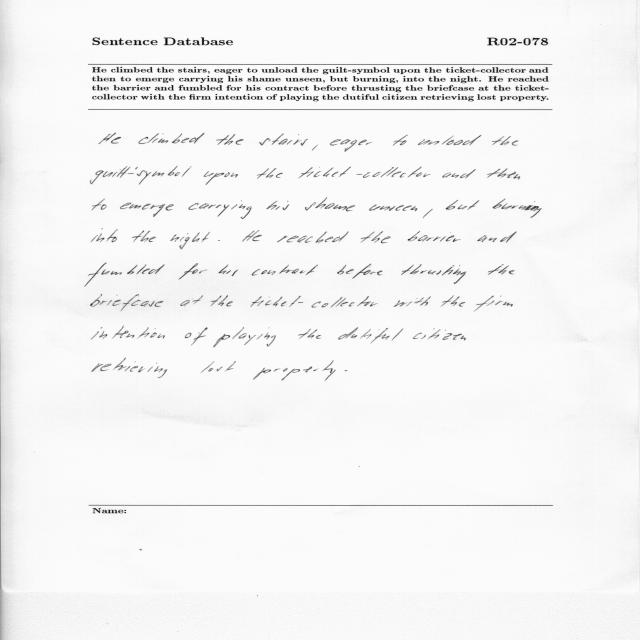word: (91, 166, 192, 185), (85, 263, 165, 286), (253, 360, 336, 381), (298, 167, 431, 179), (250, 296, 378, 308), (92, 358, 167, 378), (401, 264, 466, 284), (213, 327, 276, 347), (91, 295, 164, 312), (188, 200, 252, 219), (338, 327, 403, 344), (91, 326, 165, 339), (492, 199, 542, 218), (277, 231, 349, 243), (120, 202, 174, 217), (139, 133, 205, 144), (252, 265, 318, 276), (337, 264, 383, 279), (413, 328, 466, 341), (170, 232, 210, 249), (305, 198, 355, 211), (418, 135, 482, 145), (259, 133, 308, 146), (474, 296, 513, 311), (408, 231, 461, 242), (330, 139, 372, 152), (204, 171, 238, 185), (179, 263, 207, 280), (478, 232, 517, 243), (201, 361, 236, 373), (394, 296, 431, 307), (185, 328, 207, 346), (91, 229, 118, 243), (487, 169, 520, 180), (361, 231, 391, 243), (442, 169, 476, 179), (446, 200, 480, 210), (369, 205, 417, 212), (216, 134, 244, 145), (488, 264, 515, 275), (441, 295, 465, 307), (257, 168, 283, 179), (180, 295, 203, 307), (132, 231, 156, 242), (492, 136, 518, 146), (210, 295, 233, 306), (99, 133, 121, 144), (242, 230, 262, 242), (267, 201, 290, 211), (219, 265, 239, 276), (299, 329, 321, 339), (393, 135, 408, 146), (92, 199, 107, 210), (423, 209, 433, 218), (312, 145, 318, 151), (218, 240, 220, 241), (345, 370, 347, 371), (534, 201, 535, 202)
